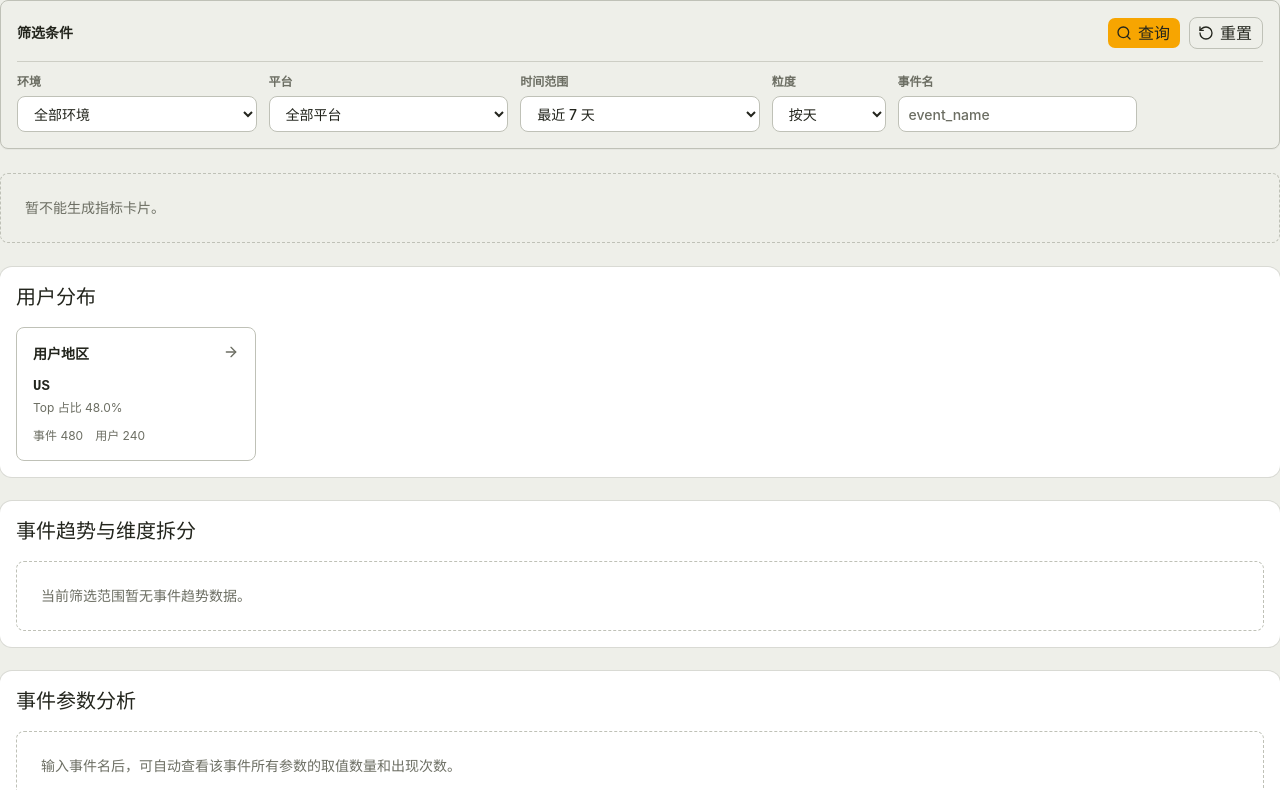
Scenario: AnalyticsWorkbench client refresh › falls back to an empty user distribution when refresh data omits dimension groups
The width and height of the screenshot is (1280, 790).
Click the button "查询" at (1144, 33), box left=1107, top=17, right=1181, bottom=49
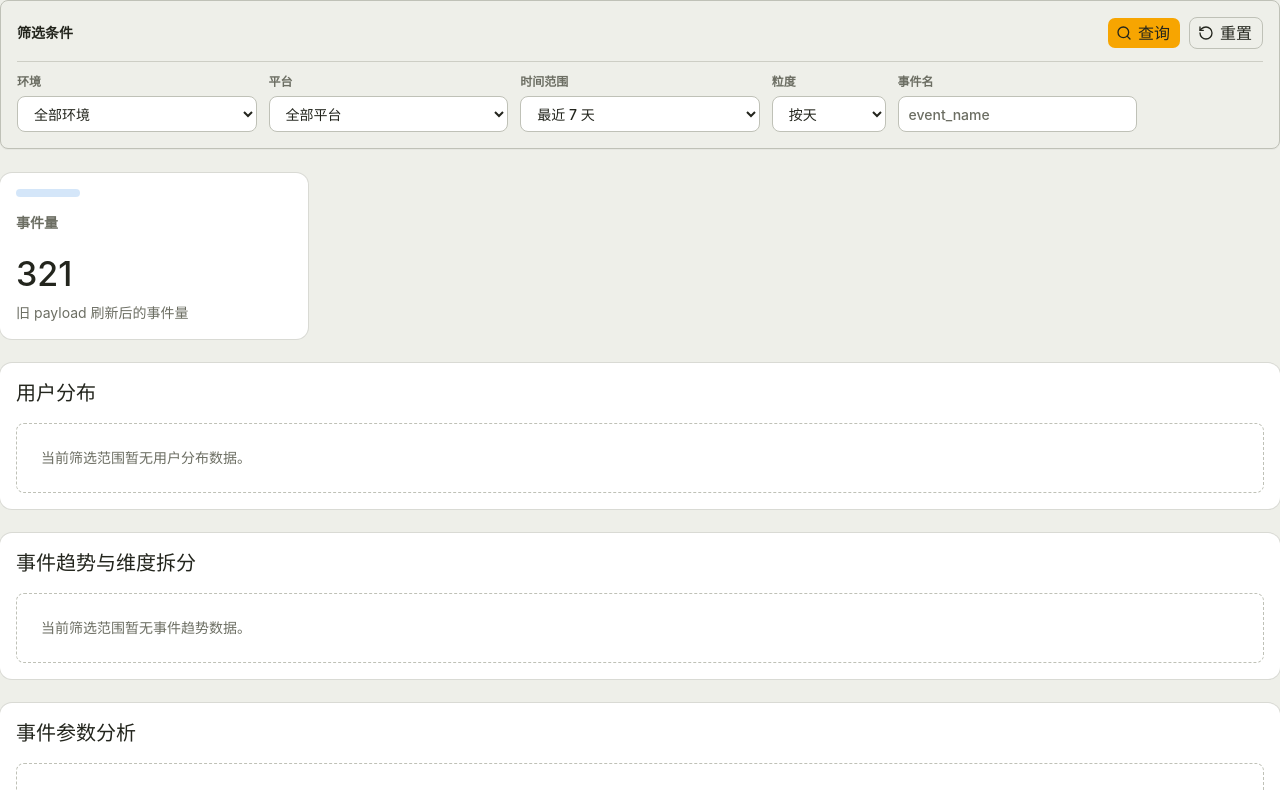
Now the text "321" is shown, box left=16, top=253, right=72, bottom=294
Now the text "当前筛选范围暂无用户分布数据。" is shown, box left=16, top=423, right=1264, bottom=493
